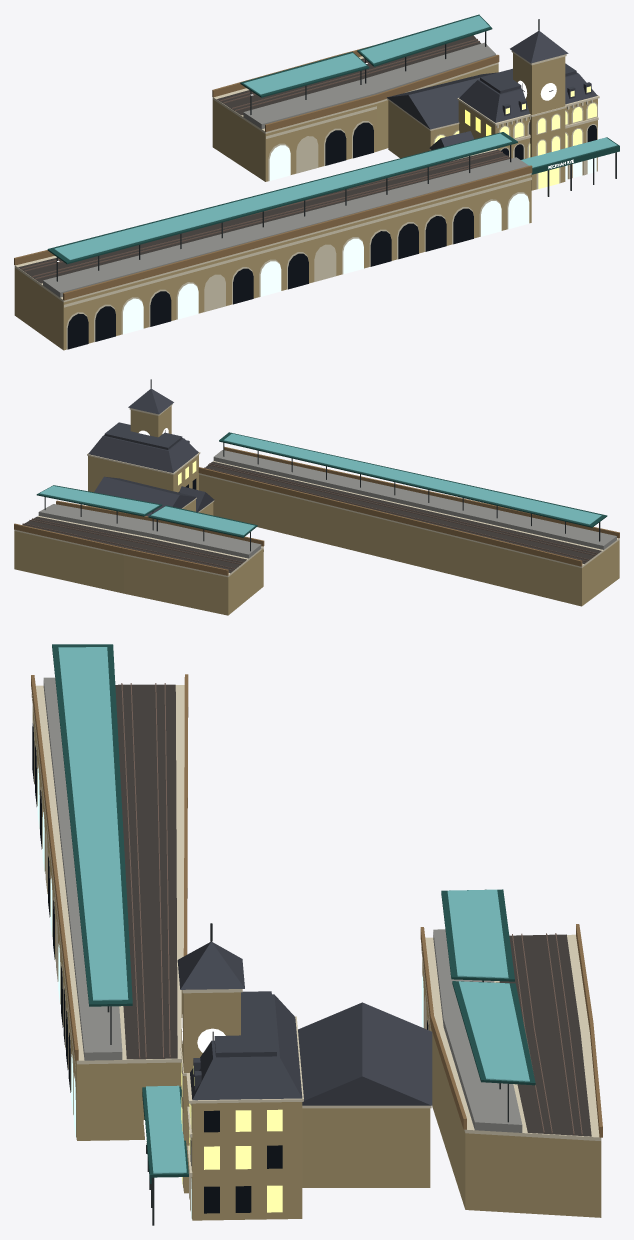
Rendered from peckham_station.glb.
The picture shows the model from 3 angles, top to bottom: view 1: azimuth 30°, elevation 25°; view 2: azimuth 150°, elevation 25°; view 3: azimuth 270°, elevation 25°; orthographic projection. The views are drawn at different scales.
Visible parts, largest first — view 1: station_Brick_Buff, station_Platform, station_Glass_Canopy, station_Stone, station_Ballast, station_Window_Dark, station_Slate, station_Brick_Arch, station_Emit_Arch_Glass, station_Canopy_Teal, station_Rail, station_Emit_Window (+1 smaller); view 2: station_Brick_Buff, station_Platform, station_Ballast, station_Brick_Arch, station_Glass_Canopy, station_Slate, station_Rail, station_Stone, station_Canopy_Teal, station_Steel; view 3: station_Brick_Buff, station_Ballast, station_Glass_Canopy, station_Slate, station_Stone, station_Platform, station_Canopy_Teal, station_Brick_Arch, station_Rail, station_Window_Dark, station_Emit_Window, station_Emit_Arch_Glass.
Boxes of the visible parts, left/top/right/bottom form: station_Brick_Buff: left=14, top=53, right=597, bottom=350; station_Platform: left=43, top=42, right=528, bottom=297; station_Glass_Canopy: left=54, top=16, right=617, bottom=259; station_Stone: left=14, top=51, right=599, bottom=349; station_Ballast: left=18, top=35, right=509, bottom=283; station_Window_Dark: left=67, top=122, right=596, bottom=349; station_Slate: left=387, top=31, right=597, bottom=149; station_Brick_Arch: left=14, top=46, right=532, bottom=300; station_Emit_Arch_Glass: left=123, top=145, right=596, bottom=334; station_Canopy_Teal: left=47, top=14, right=619, bottom=264; station_Rail: left=21, top=39, right=509, bottom=279; station_Emit_Window: left=434, top=86, right=596, bottom=188; station_Brick_Buff: left=14, top=406, right=619, bottom=615; station_Platform: left=38, top=450, right=616, bottom=558; station_Ballast: left=22, top=461, right=601, bottom=573; station_Brick_Arch: left=14, top=446, right=619, bottom=575; station_Glass_Canopy: left=39, top=433, right=601, bottom=535; station_Slate: left=88, top=388, right=214, bottom=516; station_Rail: left=22, top=463, right=597, bottom=570; station_Stone: left=14, top=404, right=619, bottom=577; station_Canopy_Teal: left=36, top=432, right=607, bottom=537; station_Steel: left=44, top=379, right=600, bottom=551; station_Brick_Buff: left=32, top=701, right=601, bottom=1220; station_Ballast: left=115, top=684, right=591, bottom=1136; station_Glass_Canopy: left=58, top=647, right=529, bottom=1173; station_Slate: left=177, top=942, right=432, bottom=1105; station_Stone: left=31, top=685, right=601, bottom=1218; station_Platform: left=43, top=677, right=522, bottom=1132; station_Canopy_Teal: left=52, top=644, right=535, bottom=1183; station_Brick_Arch: left=31, top=674, right=602, bottom=1137; station_Rail: left=121, top=683, right=582, bottom=1135; station_Window_Dark: left=32, top=723, right=428, bottom=1213; station_Emit_Window: left=181, top=1063, right=282, bottom=1212; station_Emit_Arch_Glass: left=37, top=768, right=423, bottom=1219.
Bounding box in the file's own units: 111 × 28.7 × 58.12.
